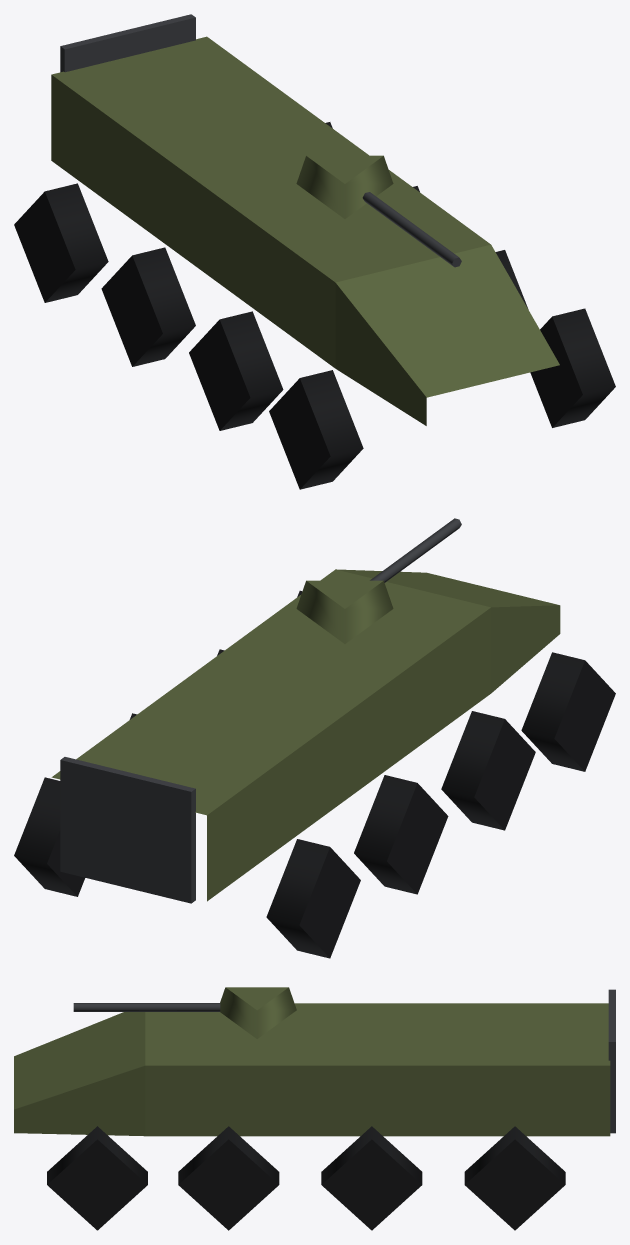
File: veh_ground_apc_a08_lod2.glb
3 renders of one model, top to bottom at view 1: azimuth 30°, elevation 25°; view 2: azimuth 150°, elevation 25°; view 3: azimuth 270°, elevation 25°, orthographic. The views are drawn at different scales.
Parts seen in each view (by area): view 1: body, wheel_2, wheel_6, wheel_0, wheel_4, wheel_7, gun, ramp; view 2: body, ramp, wheel_0, wheel_4, wheel_2, wheel_6, gun, wheel_1; view 3: body, wheel_3, wheel_5, wheel_1, wheel_7, gun, ramp.
Boxes of the visible parts, x1,y1,x2,y2 form: body: [51, 36, 559, 425]; wheel_2: [101, 247, 195, 366]; wheel_6: [269, 370, 363, 489]; wheel_0: [14, 183, 108, 302]; wheel_4: [189, 311, 283, 430]; wheel_7: [530, 308, 615, 427]; gun: [296, 155, 461, 267]; ramp: [60, 14, 195, 72]; body: [51, 569, 560, 901]; ramp: [60, 757, 195, 903]; wheel_0: [266, 839, 360, 958]; wheel_4: [441, 711, 535, 830]; wheel_2: [354, 775, 448, 894]; wheel_6: [521, 652, 615, 771]; gun: [296, 518, 461, 643]; wheel_1: [14, 777, 84, 896]; body: [14, 1003, 610, 1136]; wheel_3: [321, 1126, 422, 1230]; wheel_5: [178, 1126, 279, 1230]; wheel_1: [464, 1126, 565, 1230]; wheel_7: [47, 1126, 147, 1230]; gun: [73, 987, 296, 1038]; ramp: [608, 989, 615, 1133].
Bounding box in the file's own units: 2.94 × 2.15 × 6.56.
